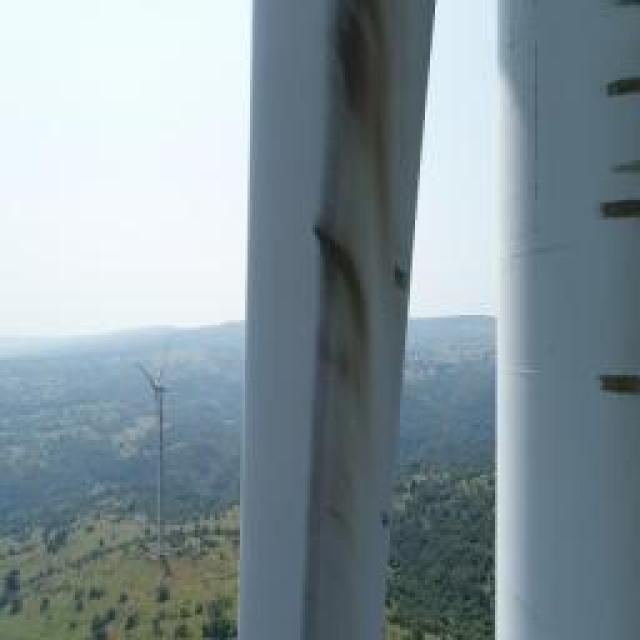Dirt: (301, 0, 429, 639)
Oil LEAKAGE: (309, 222, 349, 266)
Pin Hole: (390, 262, 408, 292), (380, 514, 394, 532), (310, 220, 321, 240)
